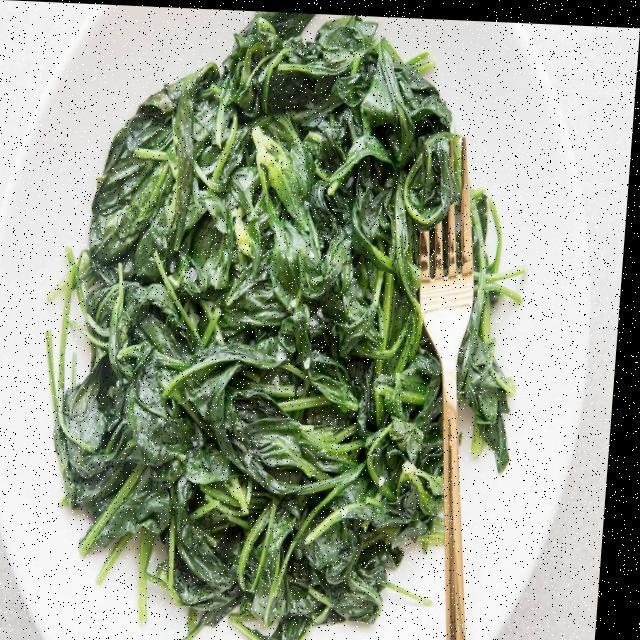Spinach: (17, 2, 547, 640)
